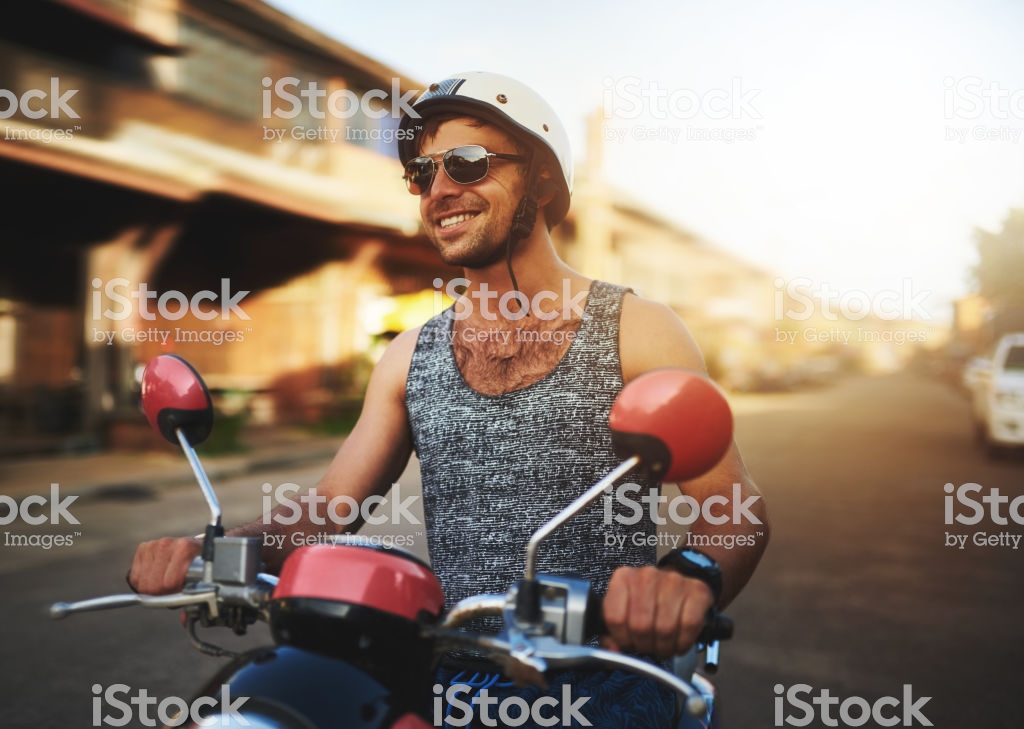helmet: (379, 57, 588, 171)
